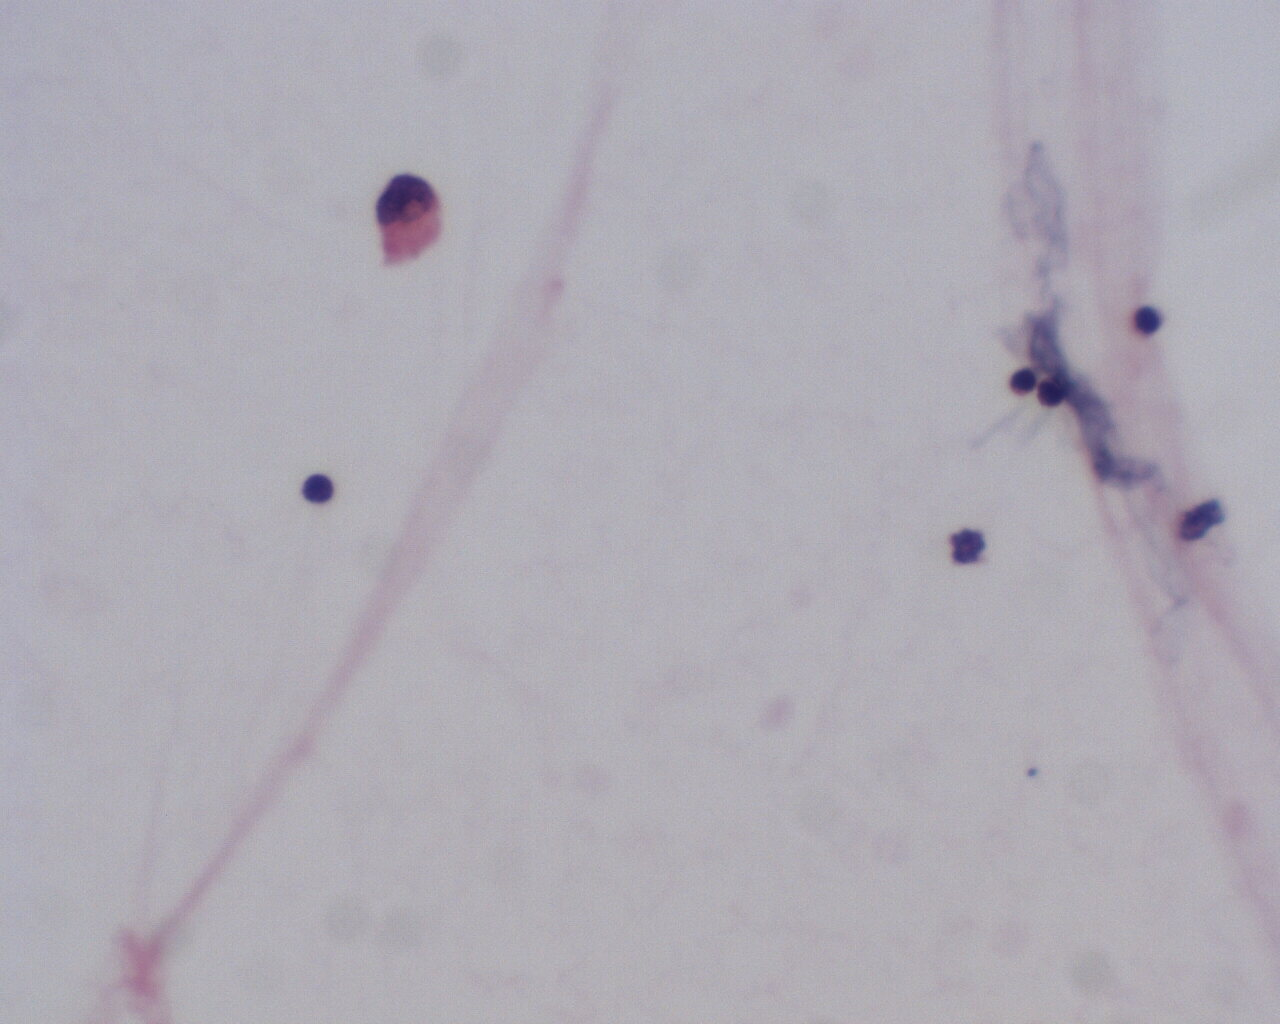ab: (378, 173, 448, 266)
lymph: (299, 470, 339, 508), (1132, 300, 1167, 340)
